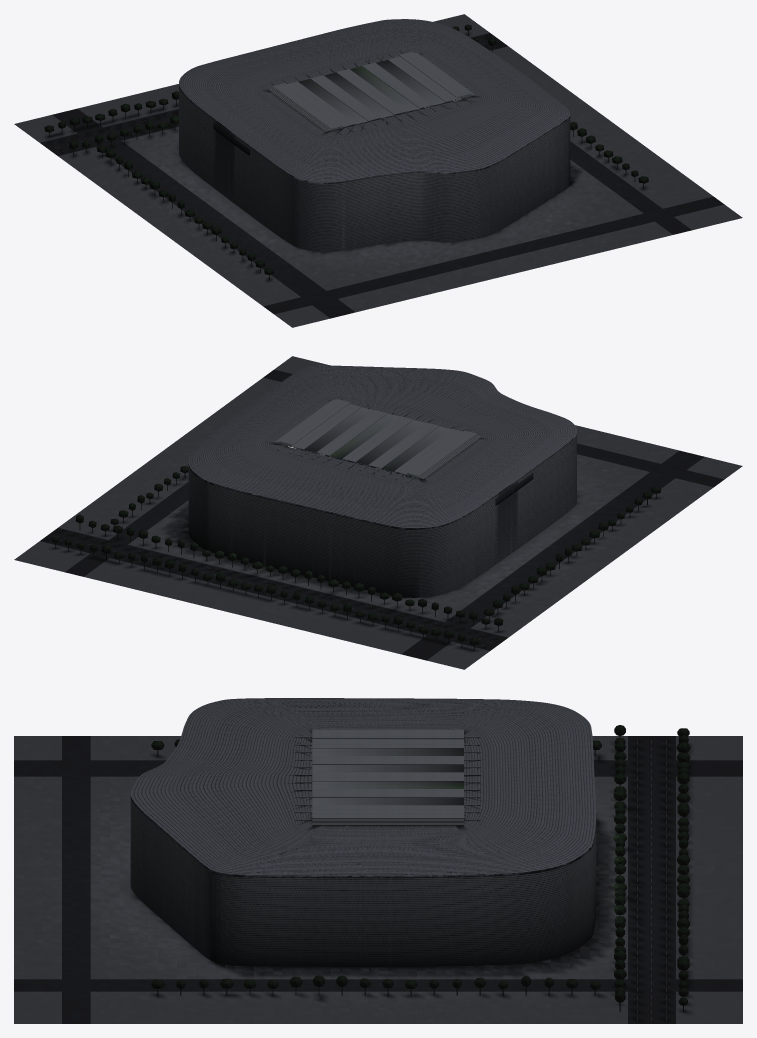
The model's file is bernabeu.glb.
3 renders of one model, top to bottom at view 1: azimuth 30°, elevation 25°; view 2: azimuth 150°, elevation 25°; view 3: azimuth 270°, elevation 25°, orthographic. The views are drawn at different scales.
Parts seen in each view (by area): view 1: SantiagoBernabeu, StadiumRoofClosed, StadiumRoofOpen; view 2: SantiagoBernabeu, StadiumRoofClosed, StadiumRoofOpen; view 3: SantiagoBernabeu, StadiumRoofClosed, StadiumRoofOpen.
Part boxes in pixels (bbox=[...]): SantiagoBernabeu: bbox=[14, 14, 742, 327]; StadiumRoofClosed: bbox=[287, 56, 461, 130]; StadiumRoofOpen: bbox=[268, 52, 475, 131]; SantiagoBernabeu: bbox=[14, 356, 742, 669]; StadiumRoofClosed: bbox=[288, 404, 462, 478]; StadiumRoofOpen: bbox=[274, 399, 481, 479]; SantiagoBernabeu: bbox=[14, 698, 742, 1023]; StadiumRoofClosed: bbox=[312, 739, 463, 809]; StadiumRoofOpen: bbox=[312, 729, 463, 825].
Size of the model in its own units: 355 by 59.65 by 380.
29 materials, 12 textured.
